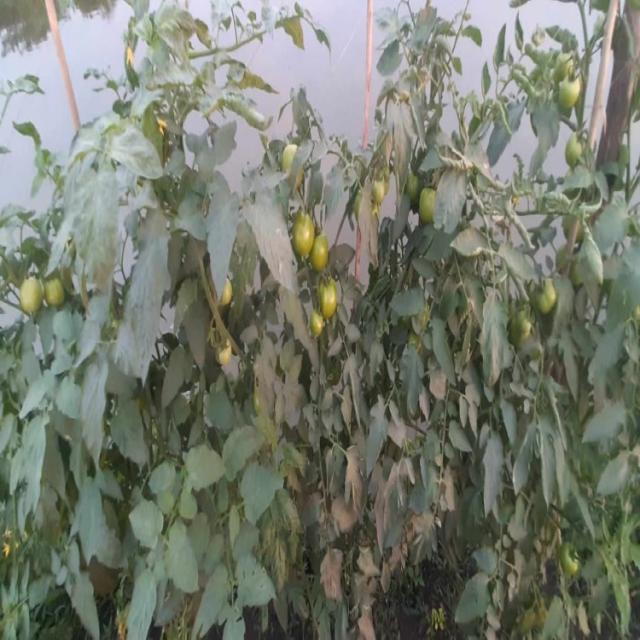tomato: (418, 189, 452, 230), (536, 276, 566, 322), (511, 310, 546, 349), (560, 136, 594, 175), (296, 218, 328, 255), (21, 276, 50, 316), (546, 44, 583, 75), (557, 546, 587, 581), (397, 170, 430, 201), (319, 278, 350, 311), (281, 148, 311, 182), (309, 238, 336, 274), (559, 71, 581, 110), (367, 175, 390, 211), (218, 280, 243, 313), (218, 329, 240, 364), (46, 280, 72, 309), (313, 310, 329, 337)
